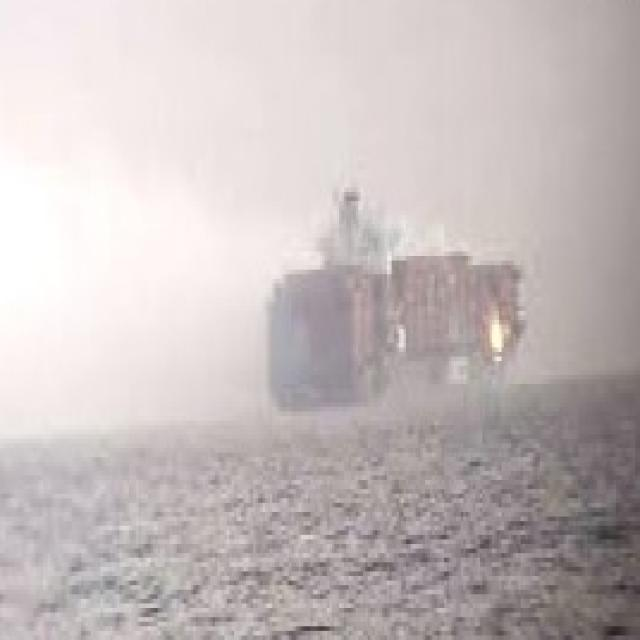cargoship: (272, 185, 535, 406)
